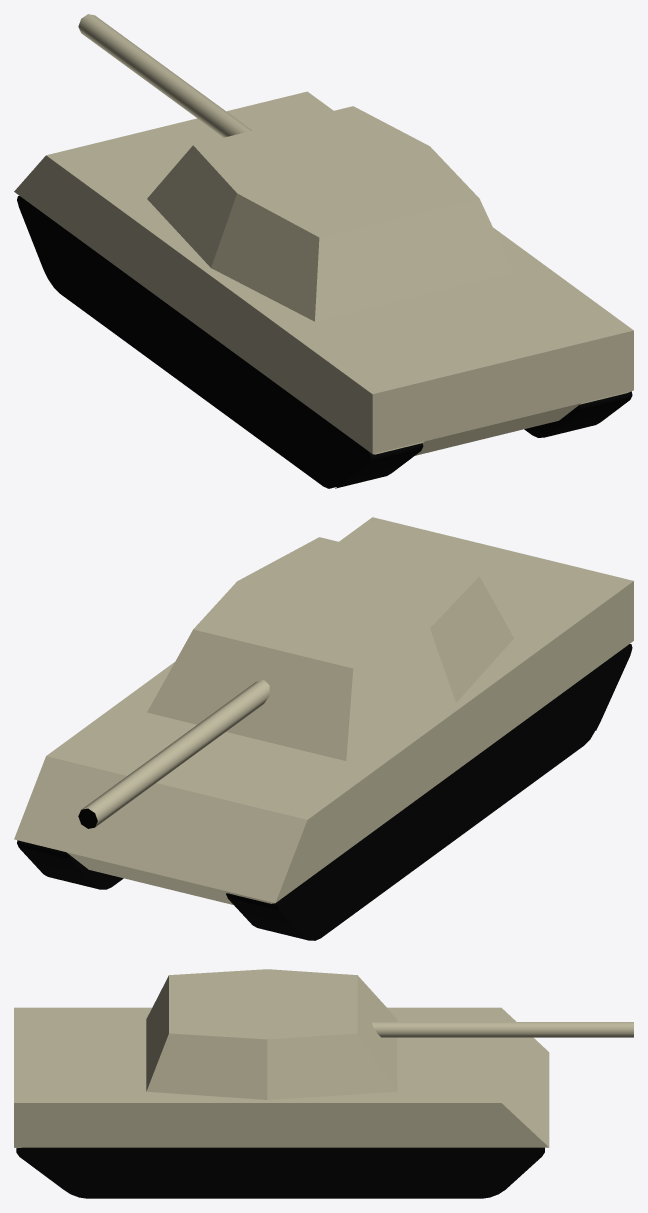
3 views of the same model, one above another, from view 1: azimuth 30°, elevation 25°; view 2: azimuth 150°, elevation 25°; view 3: azimuth 270°, elevation 25° (orthographic). The views are drawn at different scales.
Visible parts, largest first — view 1: body, turret, crawler, muzzle; view 2: body, turret, crawler, muzzle; view 3: body, turret, crawler, muzzle.
Part boxes in pixels (x1,y1,x2,y2): body: (14, 91, 633, 455); turret: (147, 106, 513, 321); crawler: (17, 196, 632, 488); muzzle: (78, 14, 251, 137); body: (14, 517, 633, 904); turret: (147, 537, 513, 760); crawler: (17, 644, 632, 940); muzzle: (78, 680, 269, 828); body: (14, 1007, 549, 1148); turret: (146, 969, 397, 1099); crawler: (16, 1147, 544, 1198); muzzle: (371, 1022, 633, 1037).
Size of the model in its own units: 4 by 2.88 by 11.
